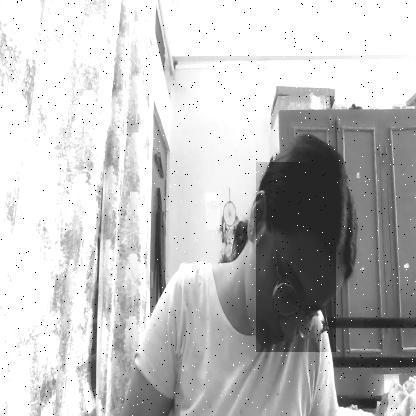Distracted: (256, 162, 336, 352)
